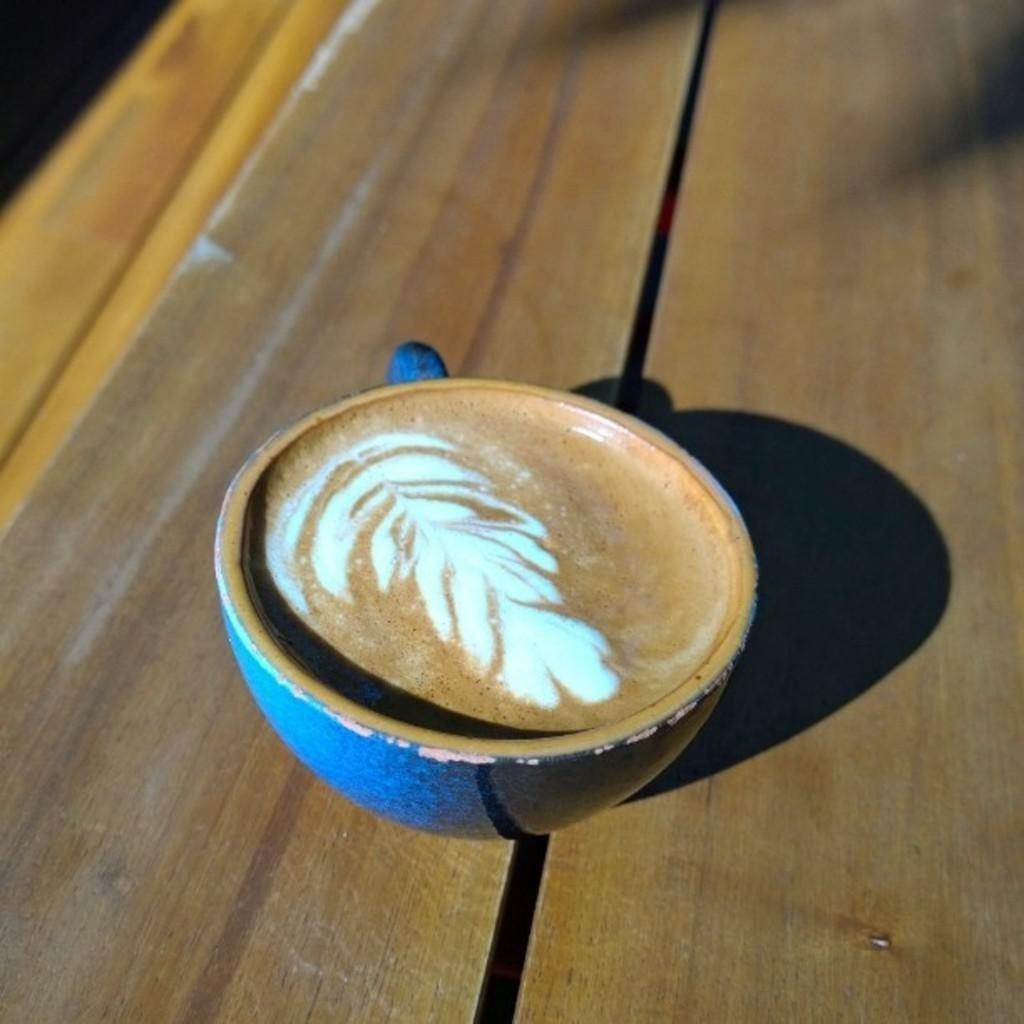cup-handle: (211, 340, 756, 842)
